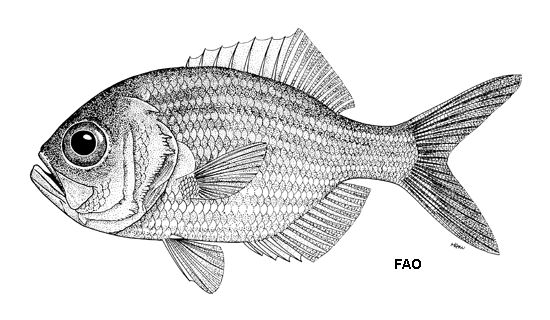fish: (30, 29, 522, 295)
